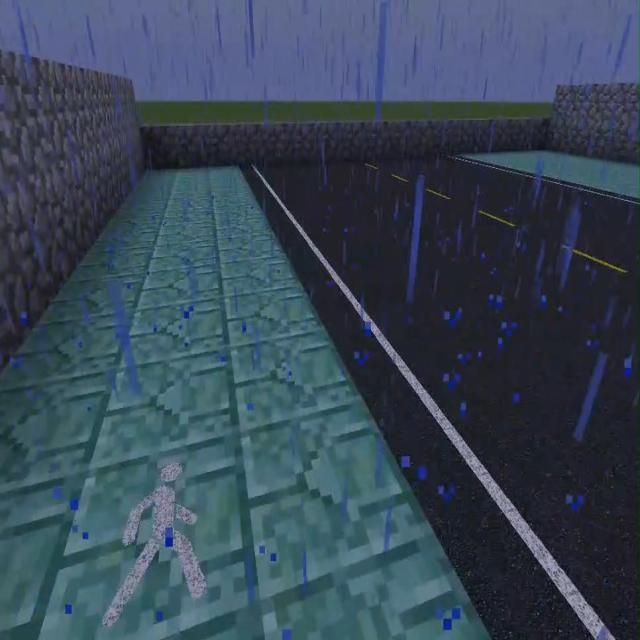crosswalk: (244, 155, 639, 639)
road: (1, 165, 494, 639), (464, 149, 639, 197)
